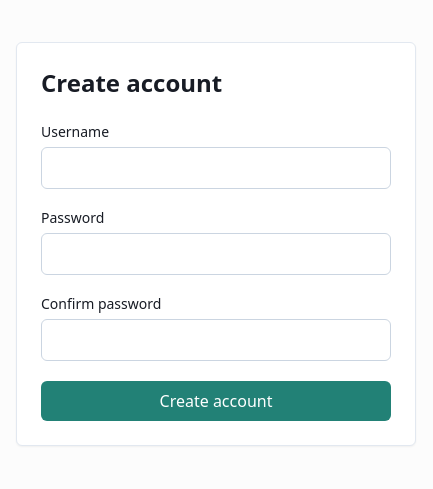
Test: AuthForm › shows signup validation when username characters are invalid
Type "casey!" into the field labelled "Username" at (216, 168), box [41,147,391,189]
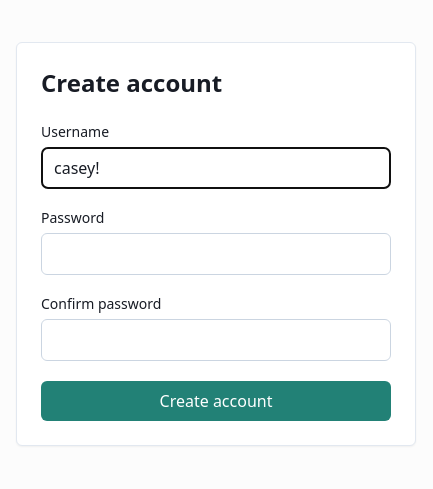
Type "long-enough" into the password field labelled "Password" at (216, 254), box [41,233,391,275]
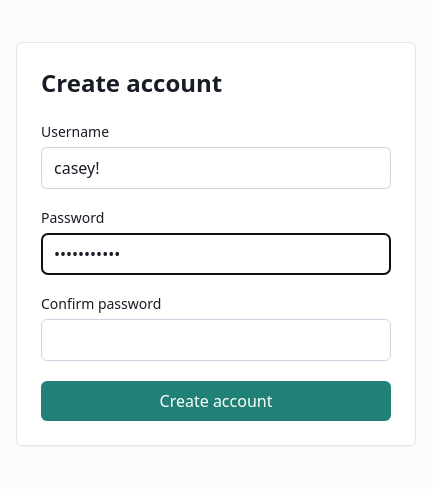
Type "long-enough" into the password field labelled "Confirm password" at (216, 340), box [41,319,391,361]
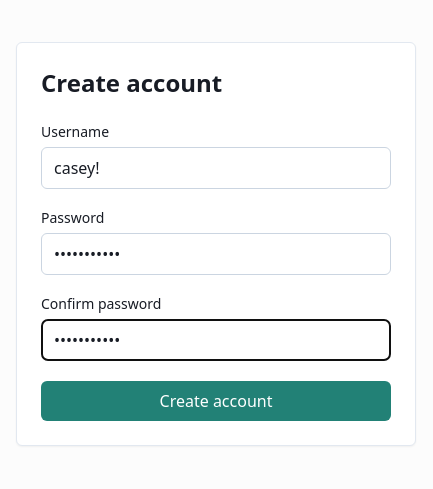
Click the button "Create account" at (216, 401), box [41,381,391,421]
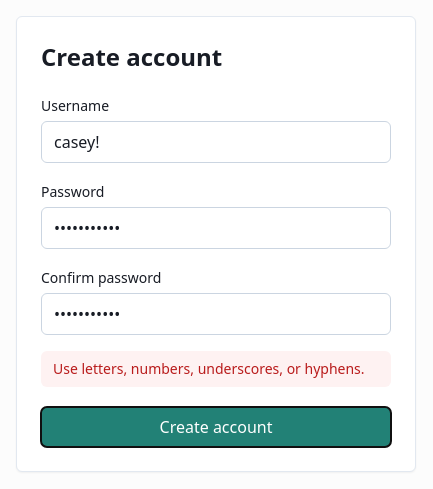
Check: the message reads "Use letters, numbers, underscores, or hyphens.", box [53,359,365,378]
